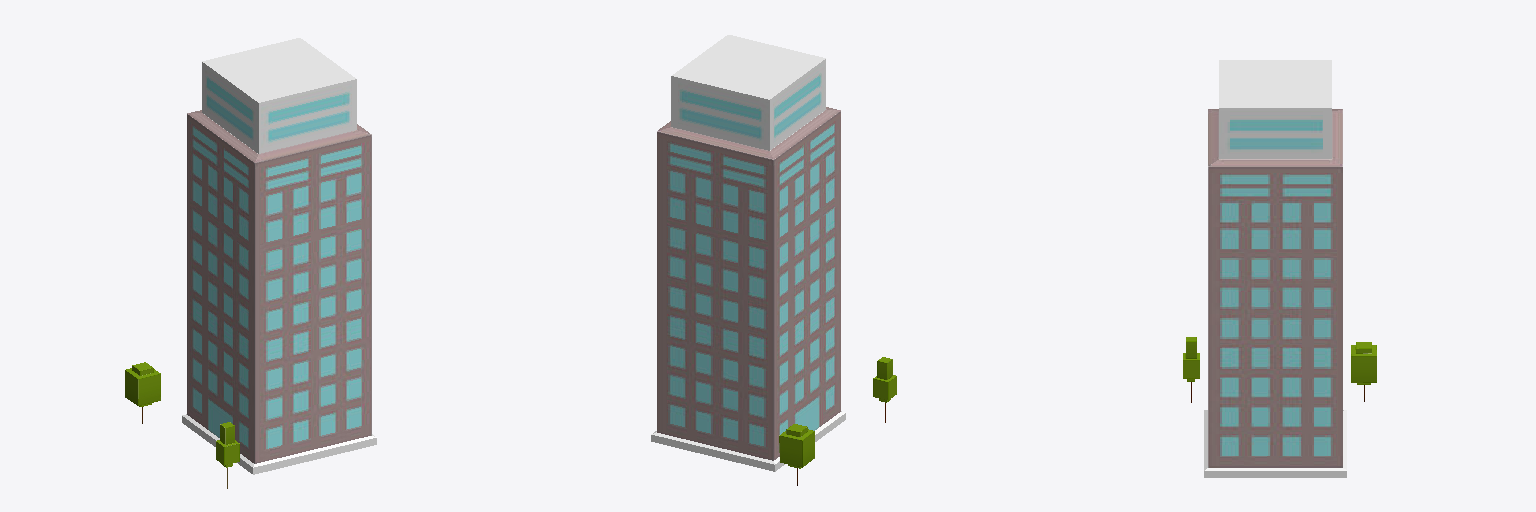
3 renders of one model, left to right at view 1: azimuth 30°, elevation 25°; view 2: azimuth 150°, elevation 25°; view 3: azimuth 270°, elevation 25°, orthographic.
Visible parts, largest first — view 1: living_blue_3lvl_Mesh.4892, Tree_3_499_2.019_Mesh.275, Tree_2_3_61.030_Mesh.276; view 2: living_blue_3lvl_Mesh.4892, Tree_3_499_2.019_Mesh.275, Tree_2_3_61.030_Mesh.276; view 3: living_blue_3lvl_Mesh.4892, Tree_3_499_2.019_Mesh.275, Tree_2_3_61.030_Mesh.276.
Boxes of the visible parts, <box> form: living_blue_3lvl_Mesh.4892: <box>182,38,376,474</box>; Tree_3_499_2.019_Mesh.275: <box>125,362,160,423</box>; Tree_2_3_61.030_Mesh.276: <box>216,422,239,488</box>; living_blue_3lvl_Mesh.4892: <box>651,35,845,471</box>; Tree_3_499_2.019_Mesh.275: <box>779,424,814,485</box>; Tree_2_3_61.030_Mesh.276: <box>873,357,896,422</box>; living_blue_3lvl_Mesh.4892: <box>1204,60,1346,477</box>; Tree_3_499_2.019_Mesh.275: <box>1351,342,1376,401</box>; Tree_2_3_61.030_Mesh.276: <box>1183,337,1199,402</box>.
Size of the model in its own units: 1.72 by 3.6 by 1.75.
3 materials, 3 textured.